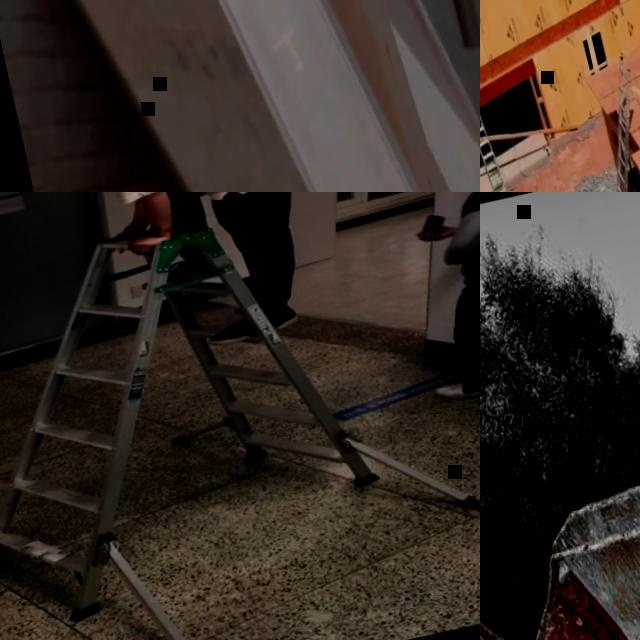Person: (0, 192, 359, 384), (381, 192, 480, 408)
machinery: (480, 192, 640, 640)
